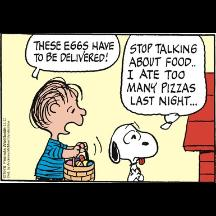snoopy: (107, 122, 158, 184)
